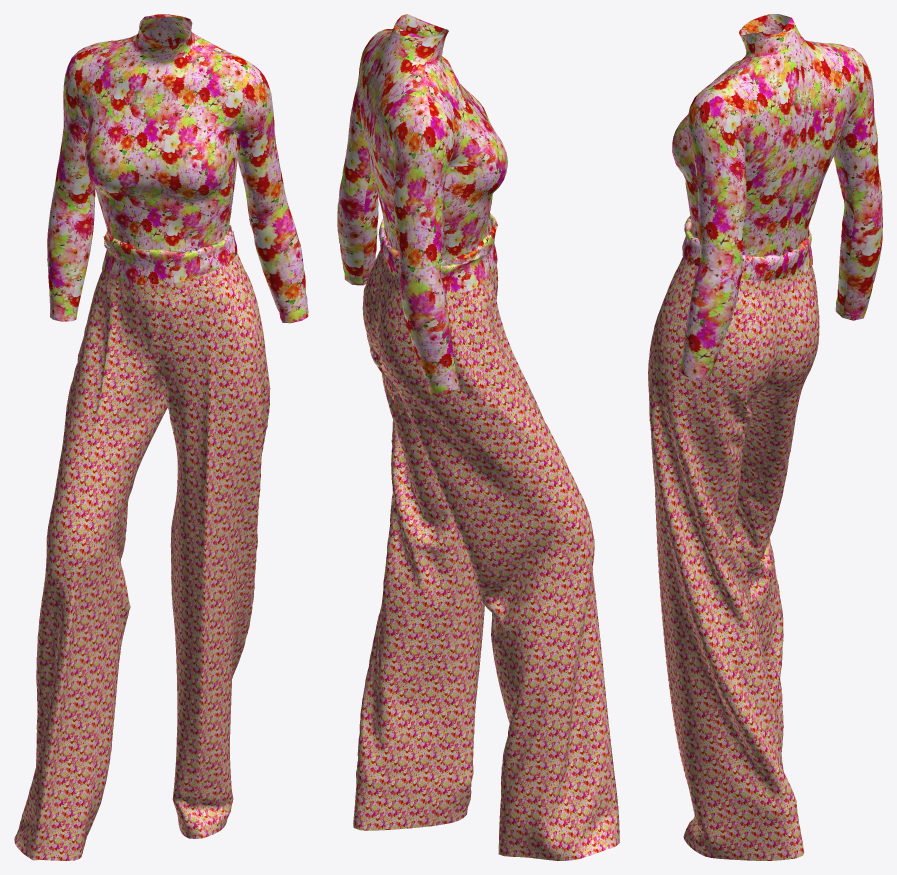
Rendered from DA_HighNeck+WidePants_0000094.obj.
The picture shows the model from 3 angles, left to right: view 1: azimuth 30°, elevation 25°; view 2: azimuth 150°, elevation 25°; view 3: azimuth 270°, elevation 25°; orthographic projection. The views are drawn at different scales.
Bounding box in the file's own units: 0.5876 × 1.62 × 0.4212.
